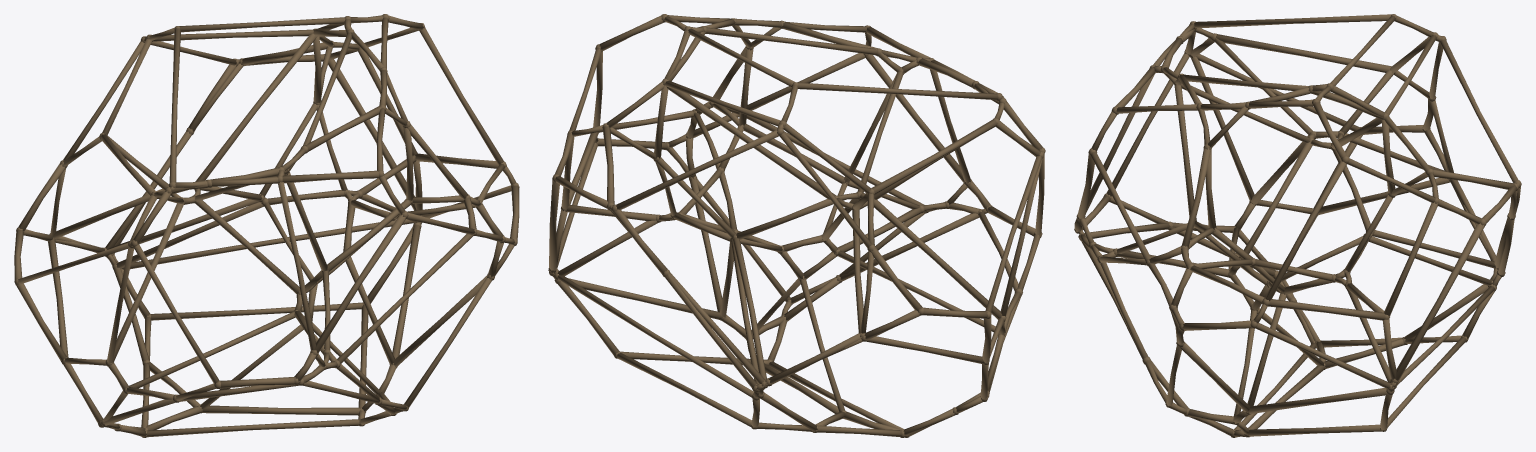
File: reticulite-clast.glb
3 renders of one model, left to right at view 1: azimuth 30°, elevation 25°; view 2: azimuth 150°, elevation 25°; view 3: azimuth 270°, elevation 25°, orthographic.
Parts seen in each view (by area): view 1: irregular-three-dimensional-open-cell-glass-strut-foam; view 2: irregular-three-dimensional-open-cell-glass-strut-foam; view 3: irregular-three-dimensional-open-cell-glass-strut-foam.
Part boxes in pixels (x1,y1,x2,y2): irregular-three-dimensional-open-cell-glass-strut-foam: [14, 14, 519, 437]; irregular-three-dimensional-open-cell-glass-strut-foam: [548, 14, 1045, 437]; irregular-three-dimensional-open-cell-glass-strut-foam: [1074, 14, 1521, 437].
Size of the model in its own units: 0.16 by 0.1247 by 0.1359.
